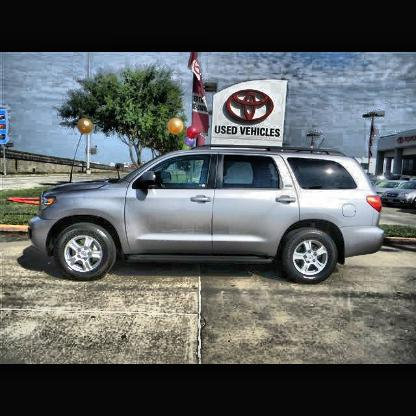Toyota Sequoia SUV 2012: (28, 144, 385, 284)
